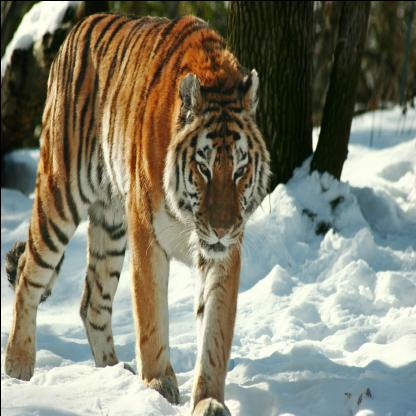tiger: (166, 64, 278, 260)
